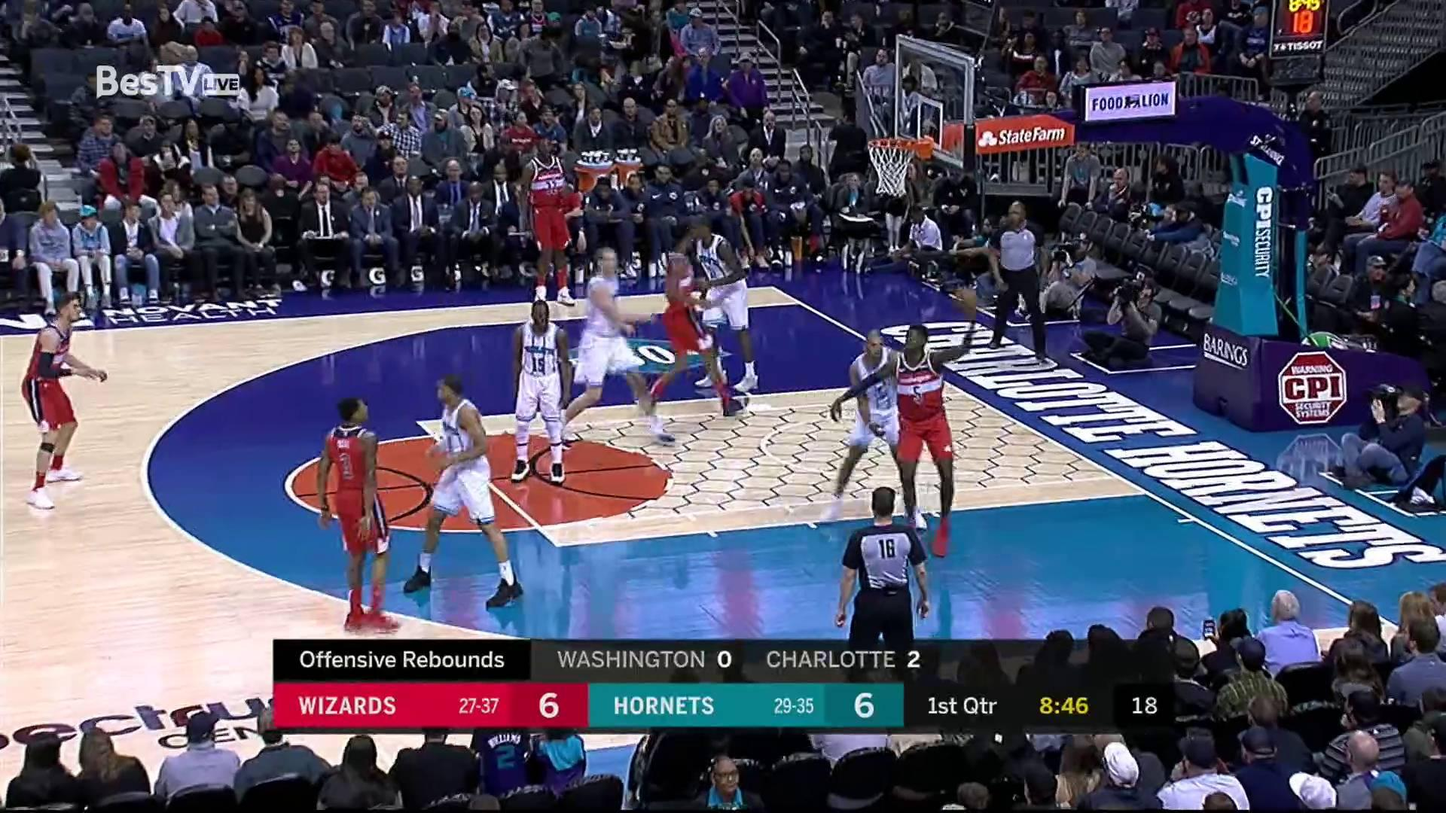basketball: (955, 289, 982, 315)
